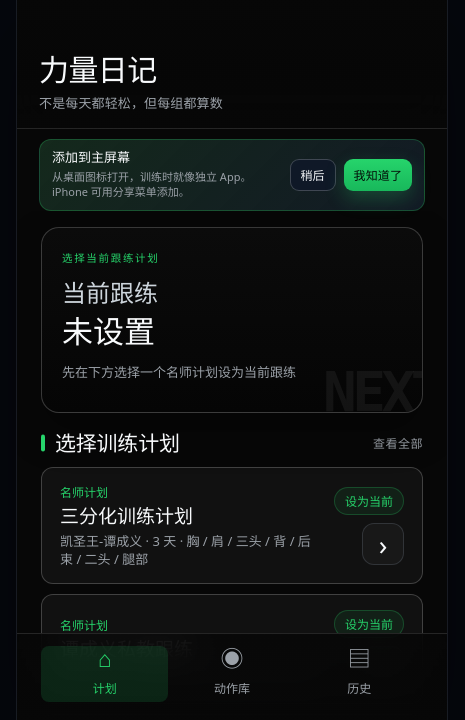
fitness PWA user flows › shows a dismissible add-to-home-screen prompt on the plan home
Expected: the text "添加到主屏幕" is shown, [52, 148, 130, 166]
Expected: the text "从桌面图标打开，训练时就像独立 App。iPhone 可用分享菜单添加。" is shown, [52, 170, 280, 200]
Click the button "我知道了". click: (378, 175)
box: [344, 159, 412, 191]
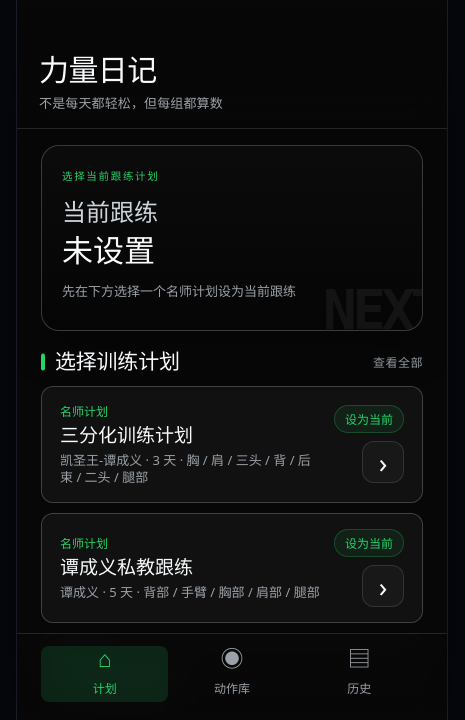
Now the text "添加到主屏幕" is gone
